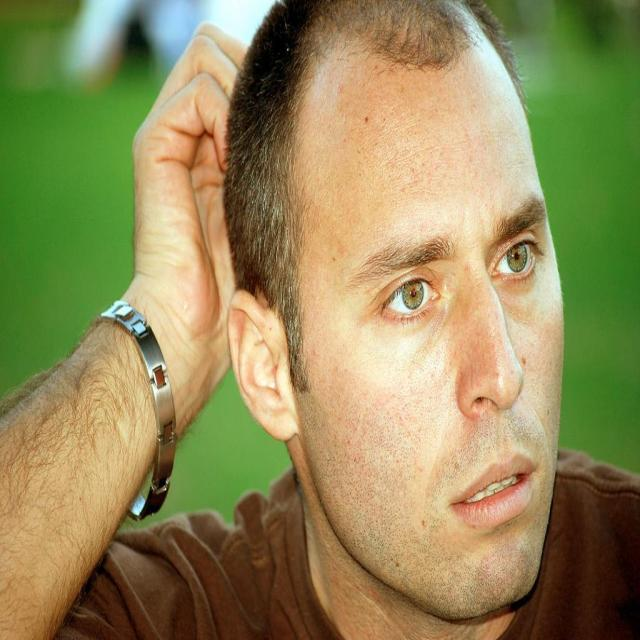no-glass: (375, 238, 539, 325)
